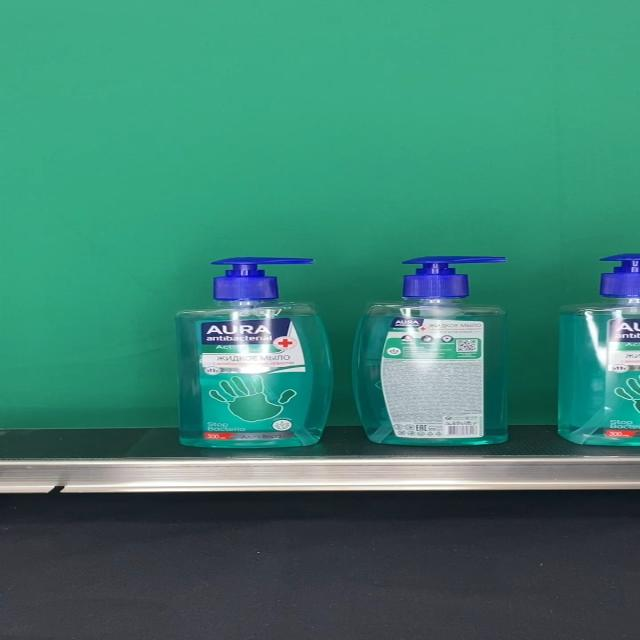Bottle: (174, 257, 333, 449), (353, 256, 509, 446)
Cap: (212, 257, 314, 300), (400, 256, 504, 297)
